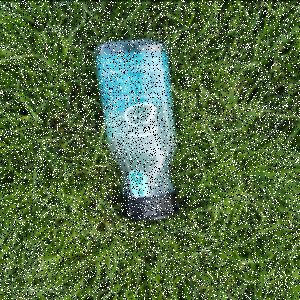Plastic-bottle: (93, 38, 179, 225)
